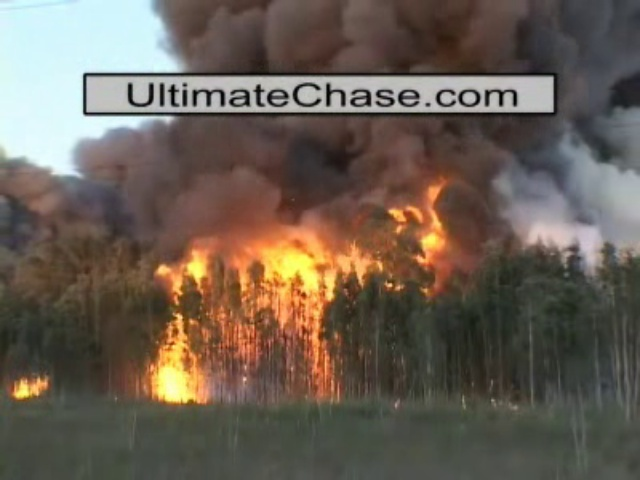fire: (260, 234, 350, 298), (143, 345, 212, 404)
